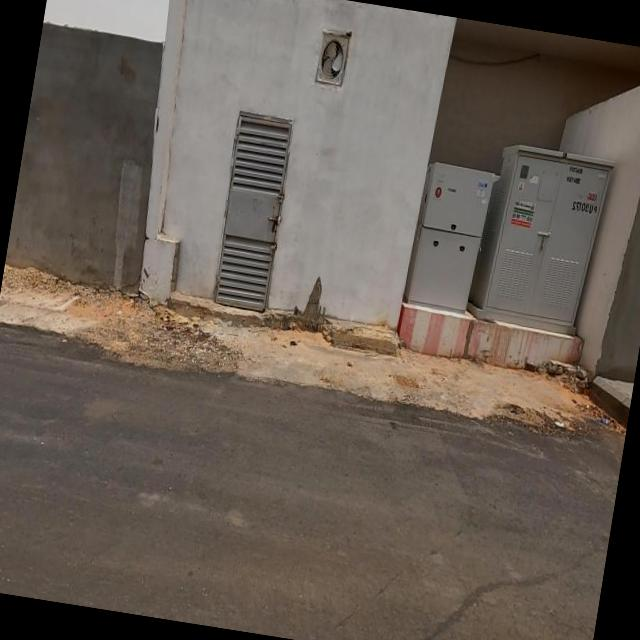debris: (569, 382, 633, 451)
